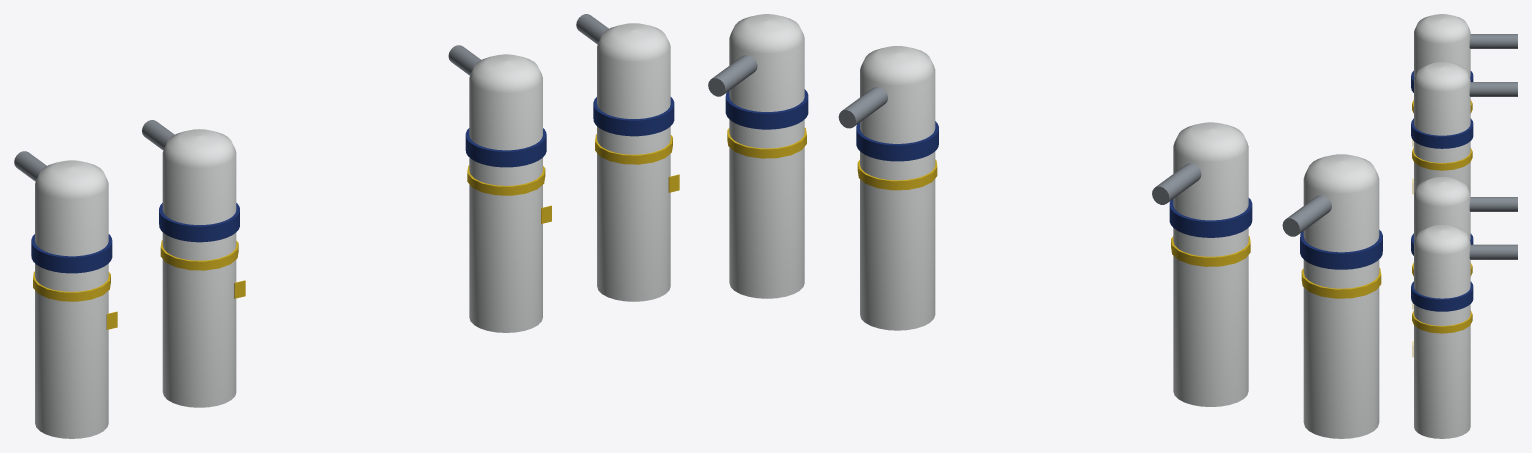
The model's file is l20_scrubber.obj.
3 views of the same model, side by side, from view 1: azimuth 30°, elevation 25°; view 2: azimuth 150°, elevation 25°; view 3: azimuth 270°, elevation 25° (orthographic). The views are drawn at different scales.
Visible parts, largest first — view 1: l20_scrubber; view 2: l20_scrubber; view 3: l20_scrubber.
Part boxes in pixels (left/top/right/bottom): l20_scrubber: left=14, top=14, right=679, bottom=438; l20_scrubber: left=708, top=14, right=1382, bottom=438; l20_scrubber: left=1411, top=14, right=1517, bottom=438.
Bounding box in the file's own units: 2.97 × 1.15 × 0.565.
